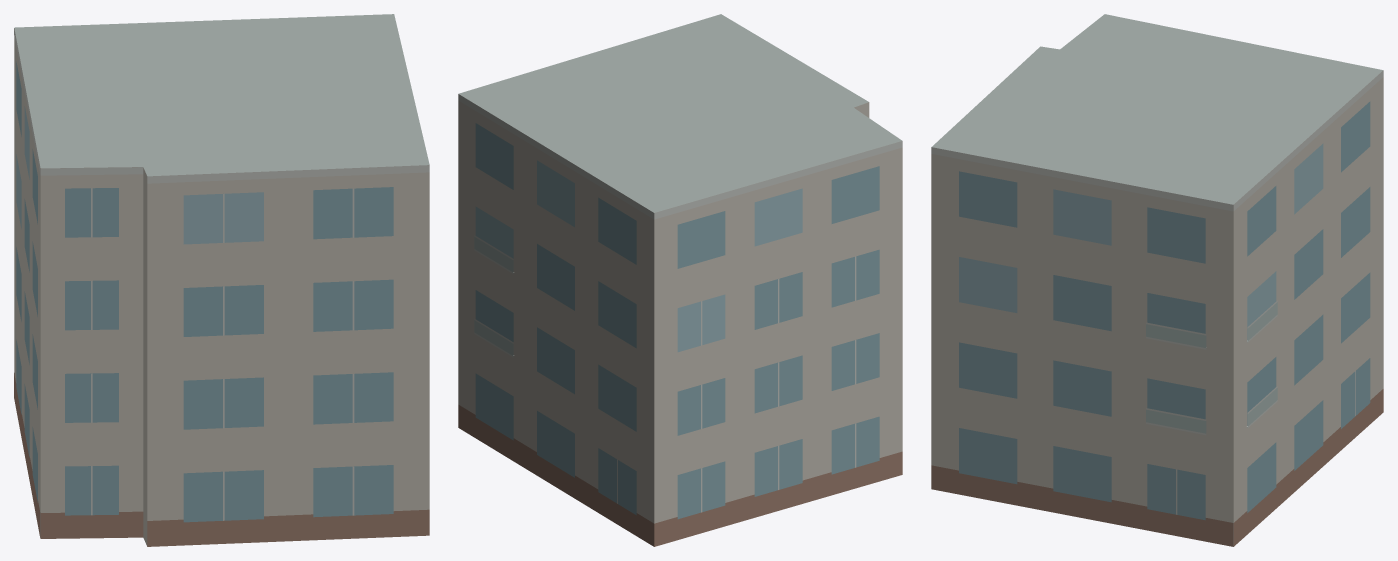
The model's file is survey-upis-32673829.glb.
3 views of the same model, side by side, from view 1: azimuth 30°, elevation 25°; view 2: azimuth 150°, elevation 25°; view 3: azimuth 270°, elevation 25° (orthographic). The views are drawn at different scales.
Visible parts, largest first — view 1: survey-upis-32673829.tmp; view 2: survey-upis-32673829.tmp; view 3: survey-upis-32673829.tmp.
Part boxes in pixels (x1,y1,x2,y2): survey-upis-32673829.tmp: (14, 14, 429, 546); survey-upis-32673829.tmp: (458, 14, 902, 546); survey-upis-32673829.tmp: (931, 14, 1383, 546).
Size of the model in its own units: 14.78 by 12.35 by 14.8.
